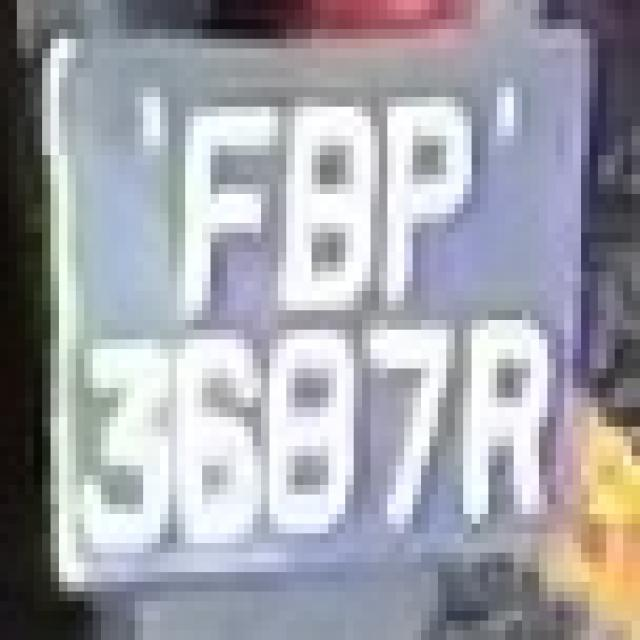3: (50, 291, 177, 591)
6: (143, 310, 261, 543)
7: (354, 291, 454, 562)
8: (244, 291, 362, 553)
B: (253, 78, 387, 320)
F: (160, 87, 269, 320)
P: (362, 68, 472, 320)
R: (438, 291, 556, 553)
